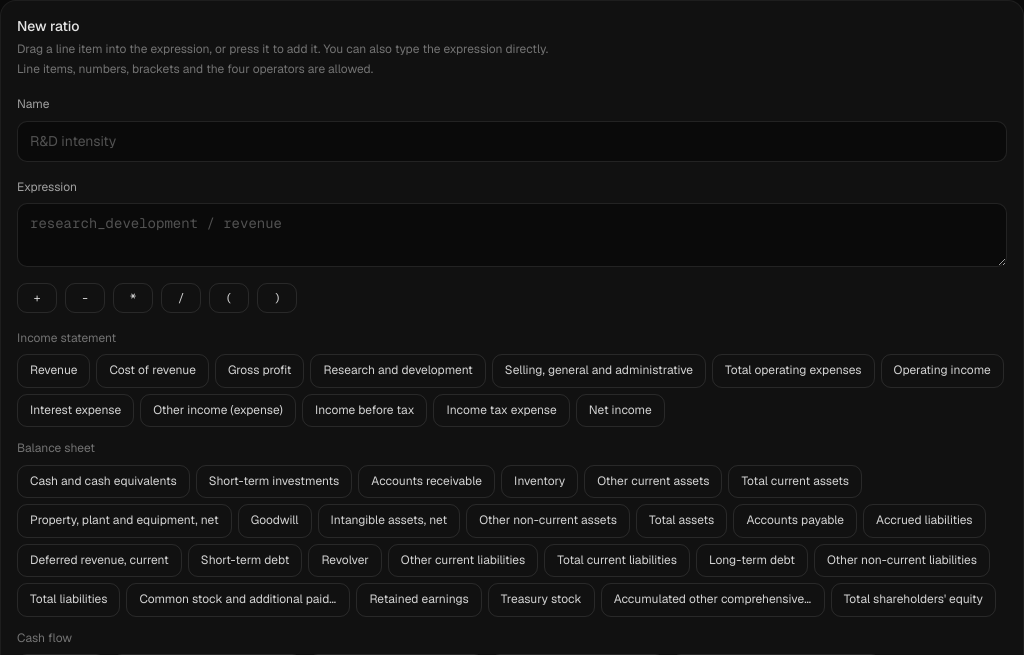
Test: building an expression › keeps hand edits when a chip is added afterwards
Type "gross_profit /" into the text box labelled "Expression". click: (512,235)
box: 17,203 -> 1007,266
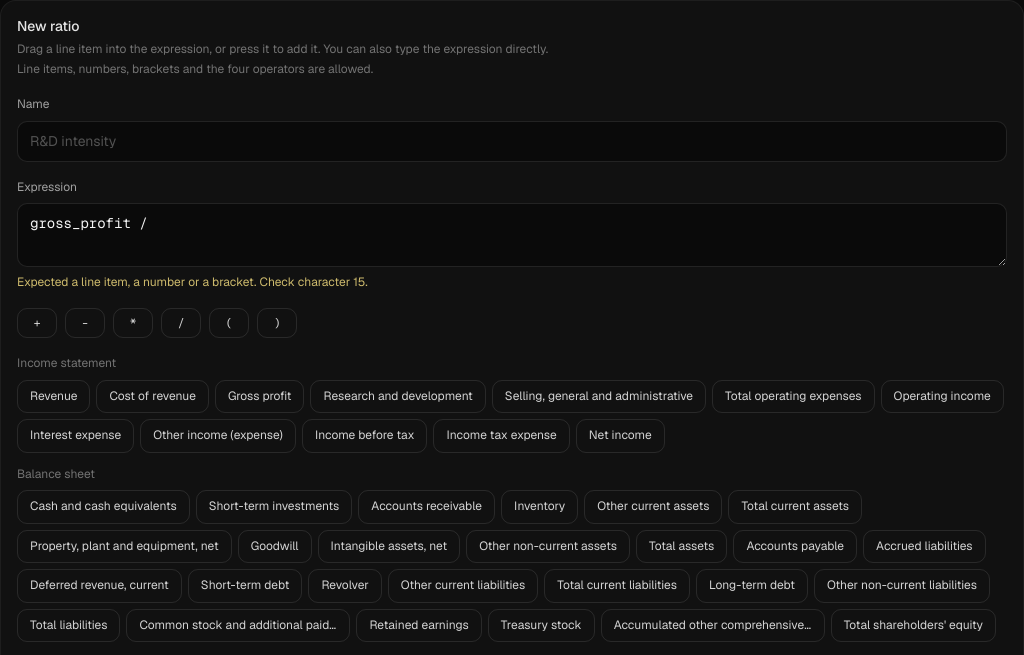
Click the button with aria-label "add Revenue to the expression". click: (54,396)
box: 17,380 -> 90,413
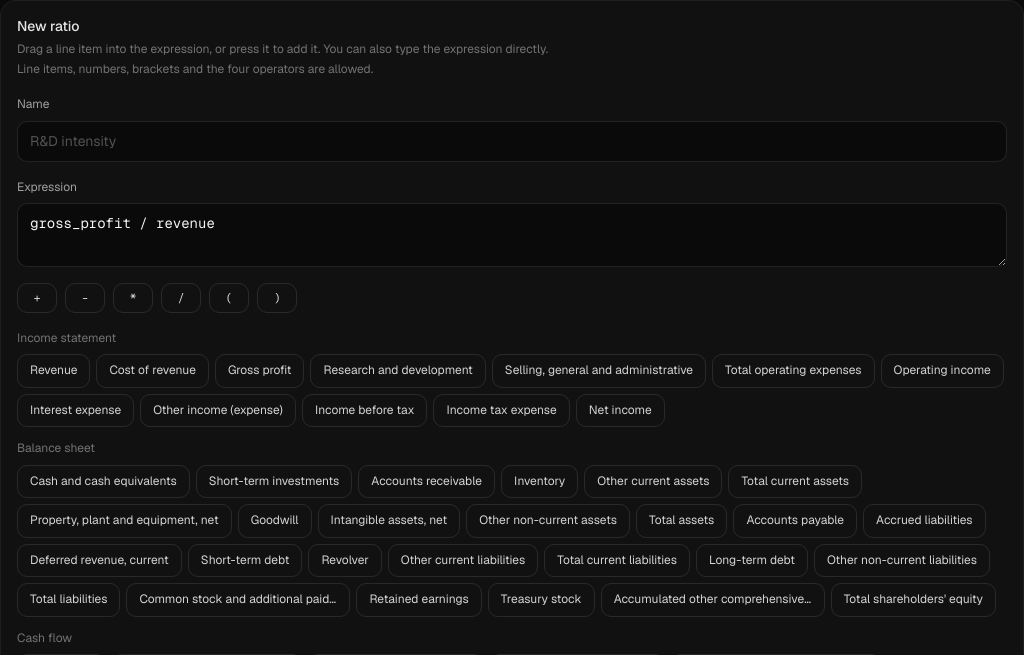
Check: the text box labelled "Expression" holds "gross_profit / revenue", box 17,203 -> 1007,266
